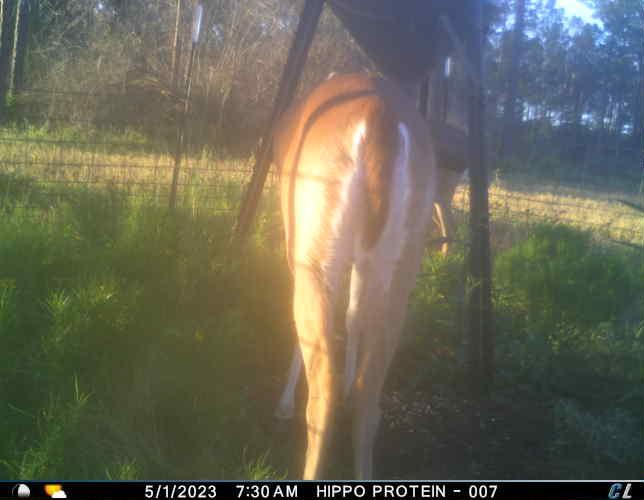Deer: (272, 61, 439, 483)
